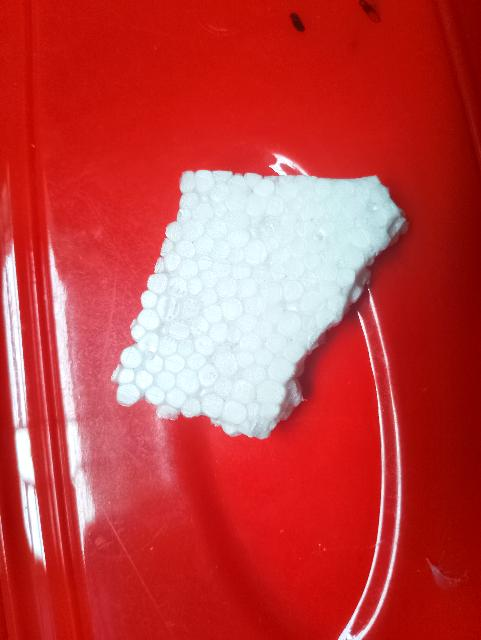cocksheet: (137, 158, 397, 445)
